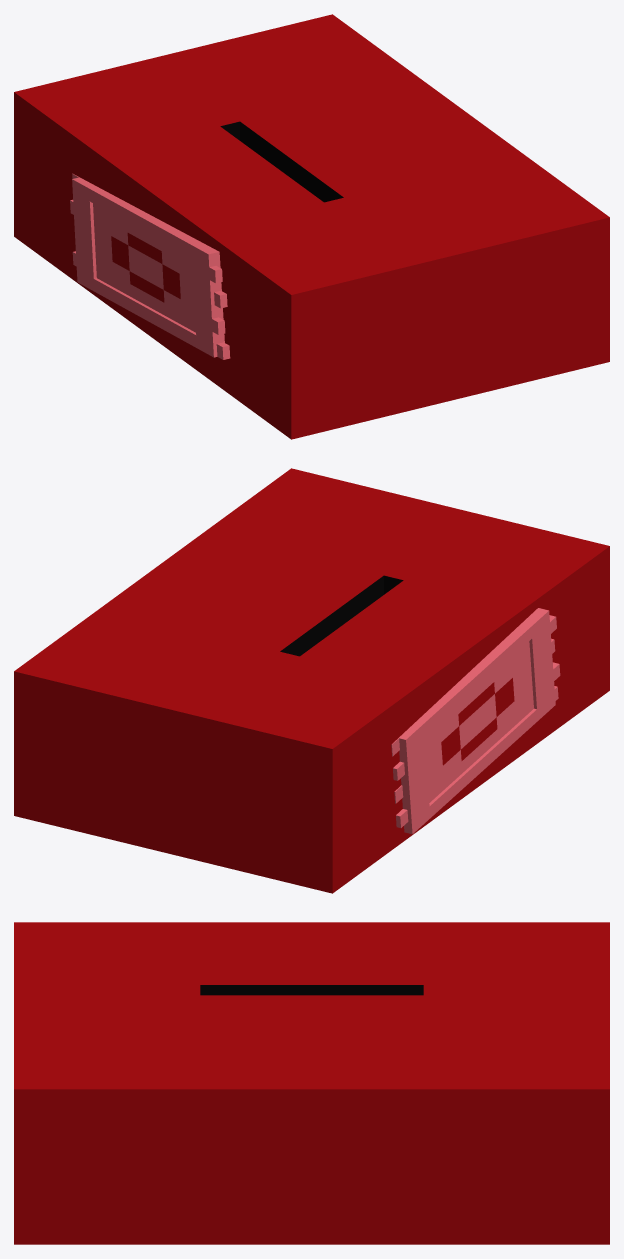
File: ticket holder.fbx
3 renders of one model, top to bottom at view 1: azimuth 30°, elevation 25°; view 2: azimuth 150°, elevation 25°; view 3: azimuth 270°, elevation 25°, orthographic. The views are drawn at different scales.
Visible parts, largest first — view 1: Cube.001, Cube; view 2: Cube.001, Cube; view 3: Cube.001.
Part boxes in pixels (x1=…): Cube.001: x1=14, y1=14, x2=609, y2=439; Cube: x1=70, y1=173, x2=230, y2=359; Cube.001: x1=14, y1=468, x2=609, y2=893; Cube: x1=391, y1=608, x2=560, y2=834; Cube.001: x1=14, y1=922, x2=609, y2=1244.
Size of the model in its own units: 75.96 by 31.77 by 111.
